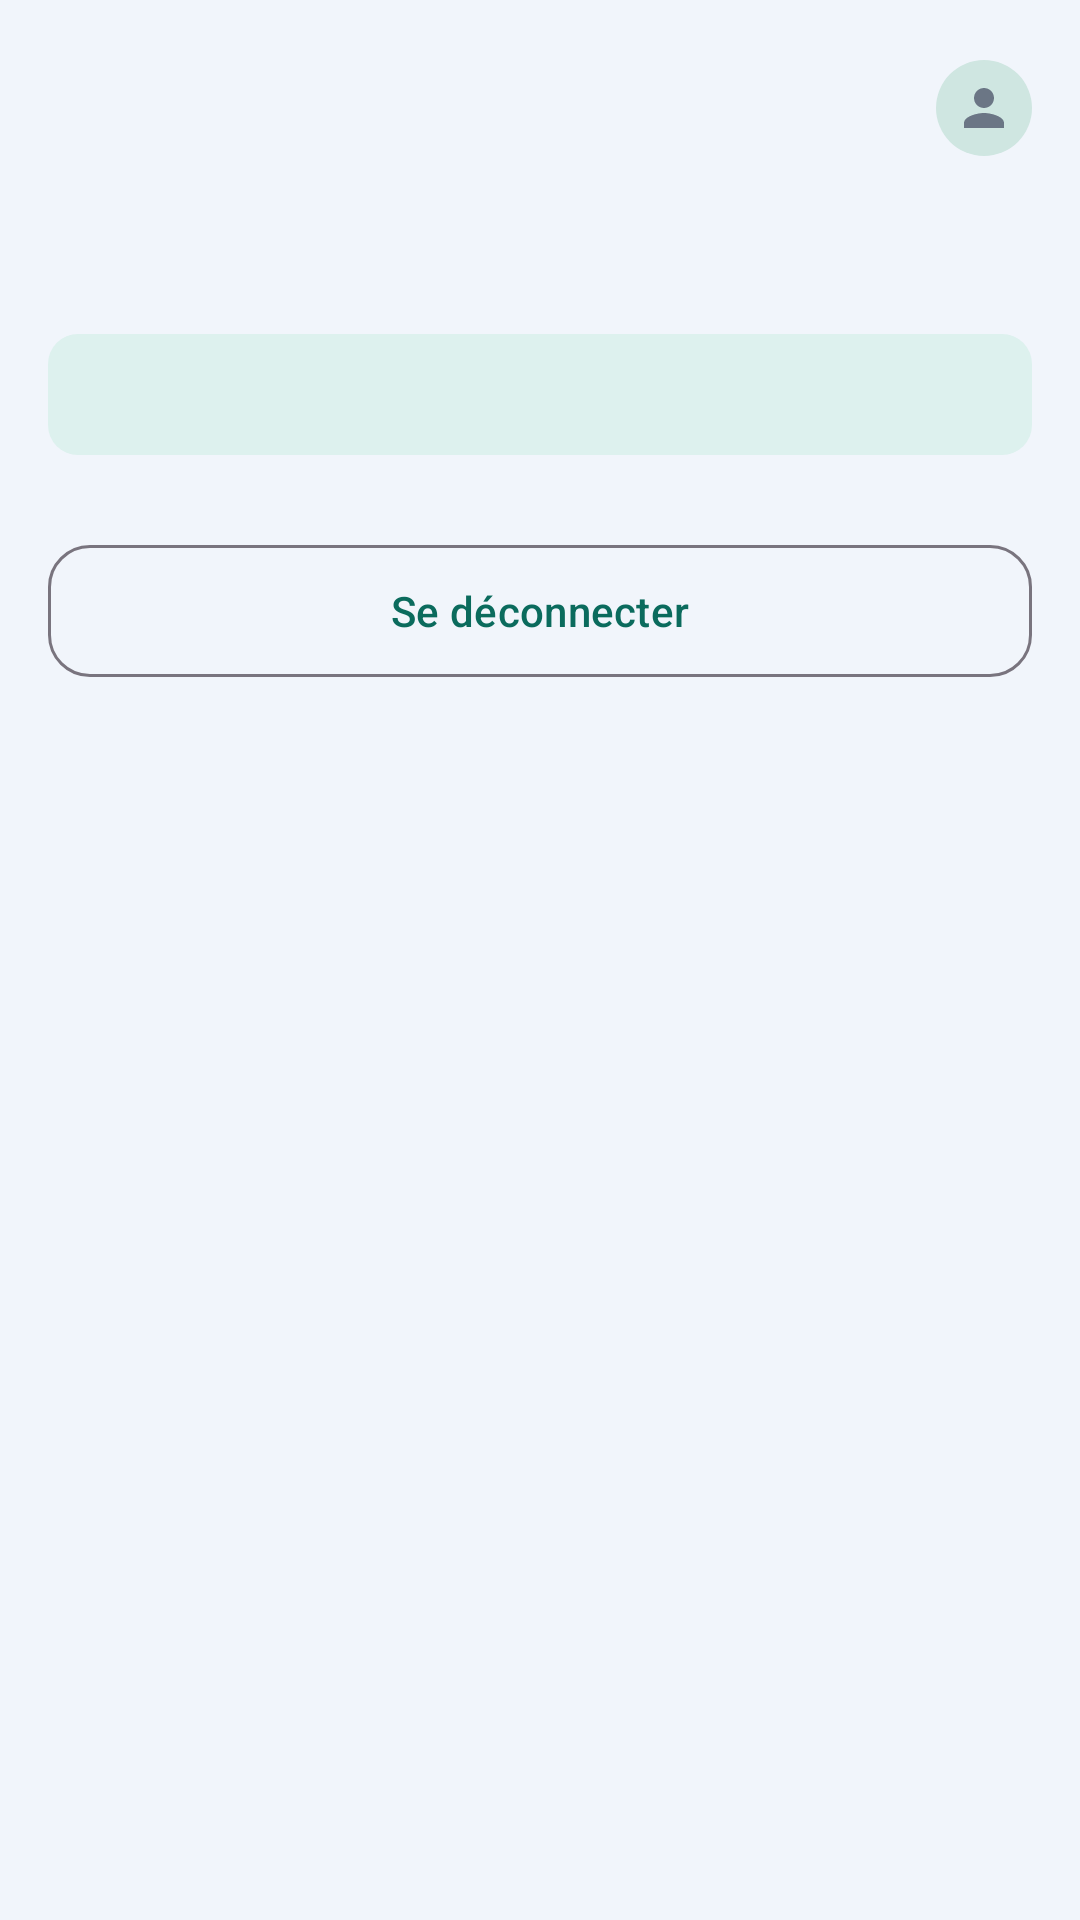

Where to tap for icons on this 1080×1920 app screen, as (x,y):
person: (984,108)
